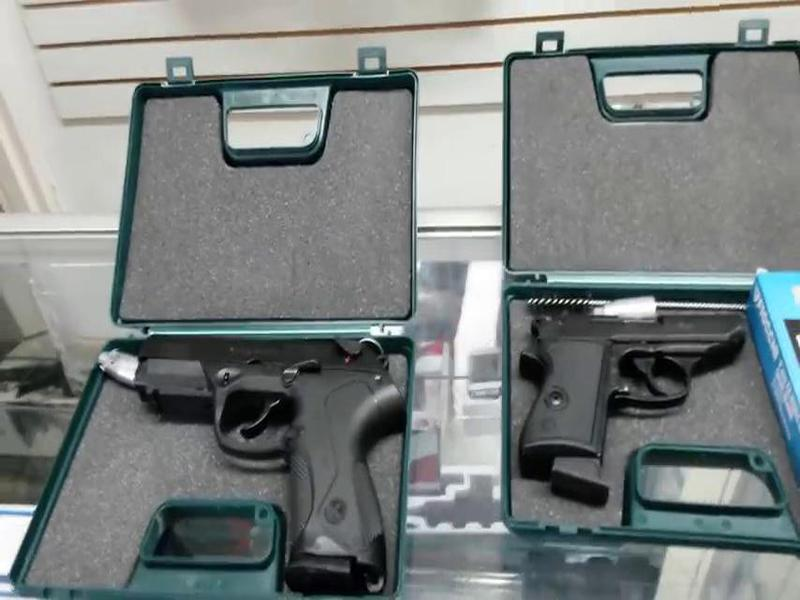Pistola: (109, 318, 412, 600)
